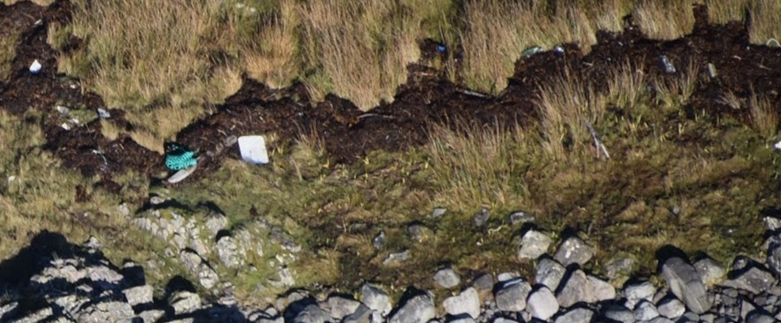scattered_barrel: (16, 50, 279, 189), (517, 36, 724, 92)
white_in_green: (410, 22, 471, 70)
